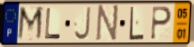J: (73, 6, 92, 42)
L: (44, 7, 62, 41), (128, 6, 145, 42)
M: (16, 6, 45, 43)
N: (94, 4, 120, 43)
P: (149, 5, 173, 42)
